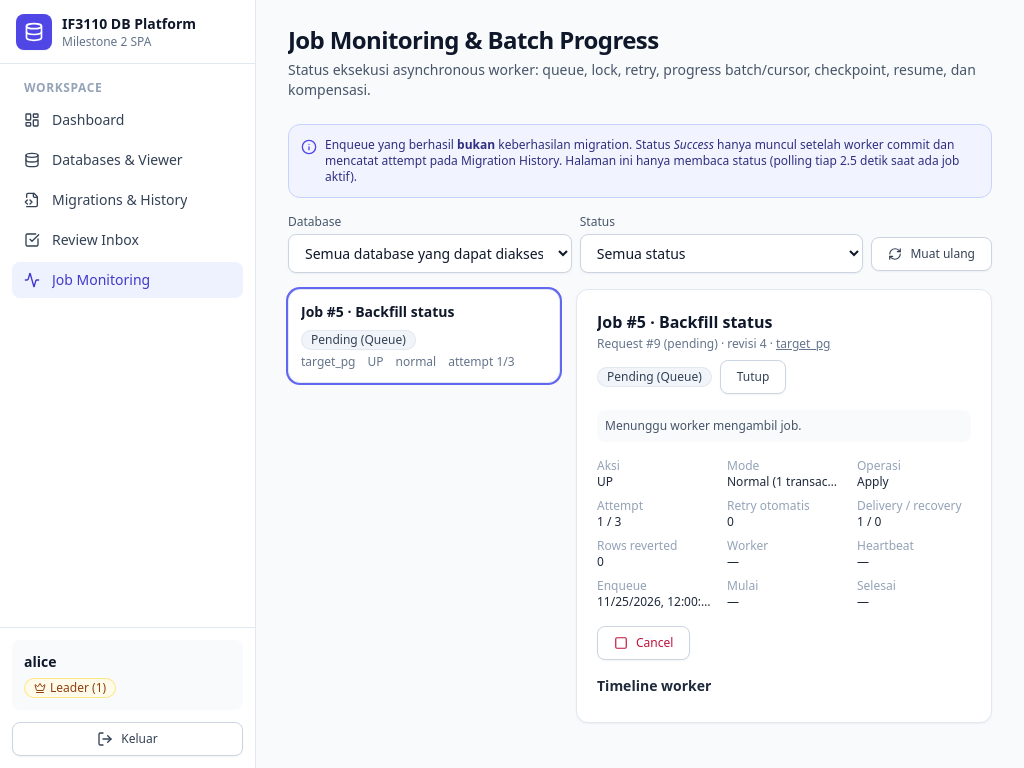
Scenario: Job monitoring page › asks for confirmation before cancelling
Step 1. Click the button "Cancel" → click(644, 643), box 597,626 -> 690,660
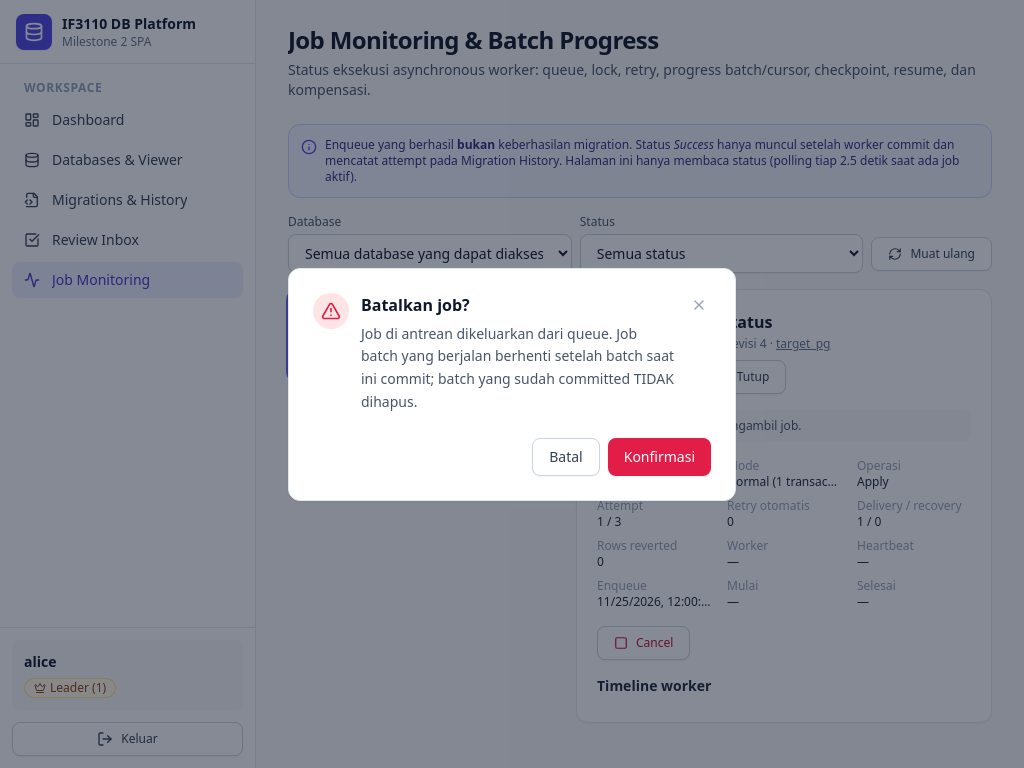
Now the heading "Batalkan job?" is shown, box 361,294 -> 470,316
